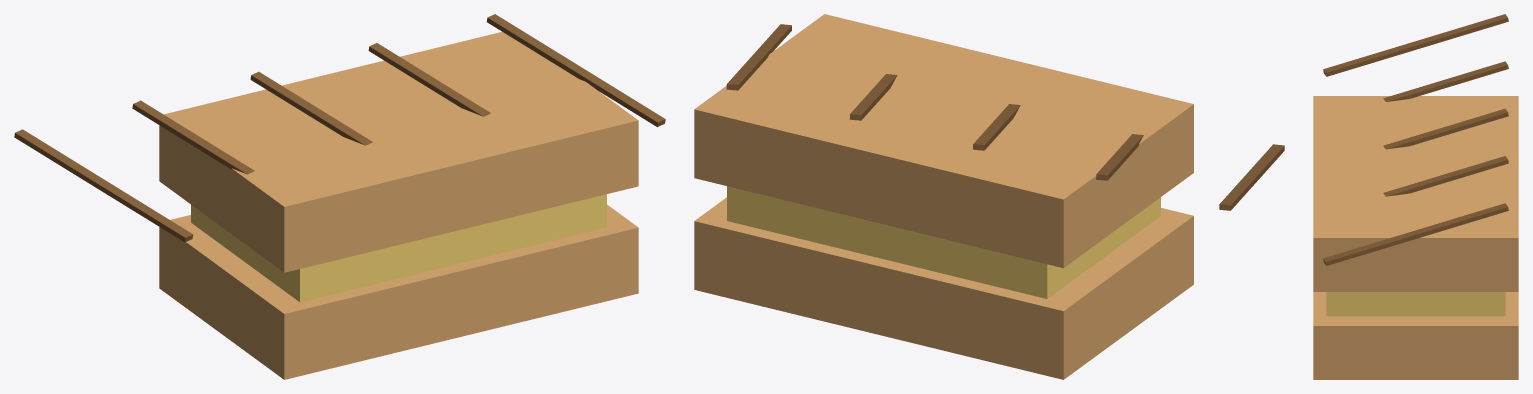
Rendered from tost.glb.
3 views of the same model, side by side, from view 1: azimuth 30°, elevation 25°; view 2: azimuth 150°, elevation 25°; view 3: azimuth 270°, elevation 25° (orthographic). The views are drawn at different scales.
Parts seen in each view (by area): view 1: ÜstEkmek, AltEkmek, Kaşarlıİç, IzgaraÇizgisi, IzgaraÇizgisi.004, IzgaraÇizgisi.001, IzgaraÇizgisi.002, IzgaraÇizgisi.003; view 2: ÜstEkmek, AltEkmek, Kaşarlıİç, IzgaraÇizgisi, IzgaraÇizgisi.004, IzgaraÇizgisi.003, IzgaraÇizgisi.001, IzgaraÇizgisi.002; view 3: ÜstEkmek, AltEkmek, Kaşarlıİç, IzgaraÇizgisi, IzgaraÇizgisi.004, IzgaraÇizgisi.002, IzgaraÇizgisi.001, IzgaraÇizgisi.003.
Boxes of the visible parts, x1=… form: ÜstEkmek: x1=159, y1=32, x2=638, y2=272; AltEkmek: x1=159, y1=204, x2=638, y2=379; Kaşarlıİç: x1=191, y1=194, x2=606, y2=302; IzgaraÇizgisi: x1=14, y1=129, x2=193, y2=242; IzgaraÇizgisi.004: x1=486, y1=14, x2=665, y2=127; IzgaraÇizgisi.001: x1=132, y1=100, x2=254, y2=174; IzgaraÇizgisi.002: x1=250, y1=71, x2=372, y2=145; IzgaraÇizgisi.003: x1=368, y1=43, x2=490, y2=116; ÜstEkmek: x1=694, y1=14, x2=1193, y2=268; AltEkmek: x1=694, y1=197, x2=1193, y2=379; Kaşarlıİç: x1=727, y1=186, x2=1160, y2=298; IzgaraÇizgisi: x1=1219, y1=144, x2=1284, y2=210; IzgaraÇizgisi.004: x1=726, y1=24, x2=791, y2=90; IzgaraÇizgisi.003: x1=849, y1=74, x2=897, y2=120; IzgaraÇizgisi.001: x1=1096, y1=134, x2=1143, y2=180; IzgaraÇizgisi.002: x1=973, y1=104, x2=1020, y2=150; ÜstEkmek: x1=1313, y1=96, x2=1518, y2=291; AltEkmek: x1=1313, y1=292, x2=1518, y2=379; Kaşarlıİç: x1=1326, y1=292, x2=1505, y2=316; IzgaraÇizgisi: x1=1323, y1=14, x2=1508, y2=76; IzgaraÇizgisi.004: x1=1323, y1=203, x2=1508, y2=265; IzgaraÇizgisi.002: x1=1383, y1=108, x2=1508, y2=149; IzgaraÇizgisi.001: x1=1383, y1=61, x2=1508, y2=101; IzgaraÇizgisi.003: x1=1383, y1=156, x2=1508, y2=196.
Bounding box in the file's own units: 1.38 × 0.4825 × 0.55.
